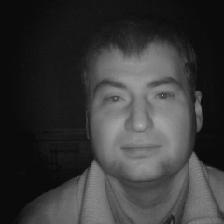normal: (77, 21, 212, 179)
